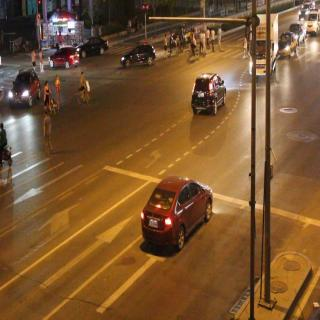BigCar: (248, 16, 283, 82)
Car: (141, 169, 216, 247), (190, 62, 228, 119), (9, 61, 43, 113), (46, 33, 83, 78), (120, 33, 158, 75), (74, 32, 108, 59), (279, 29, 300, 61), (286, 20, 307, 49), (299, 8, 320, 35)
